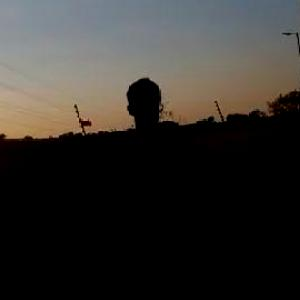follow: (104, 67, 229, 299)
